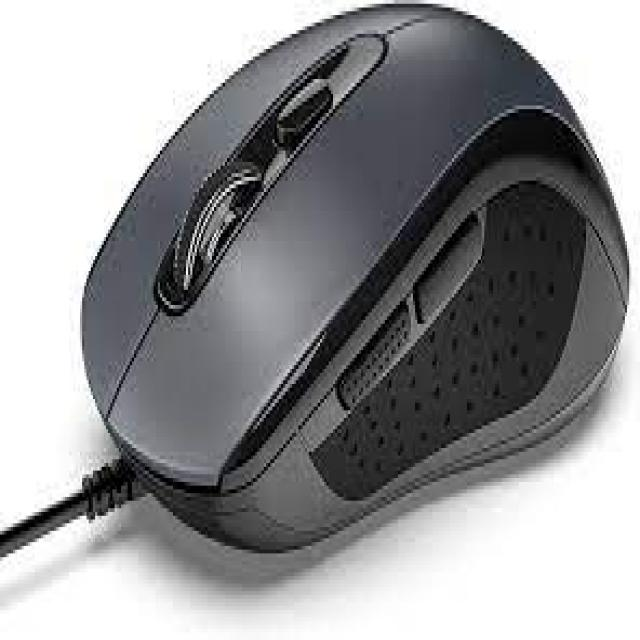others: (2, 4, 638, 561)
